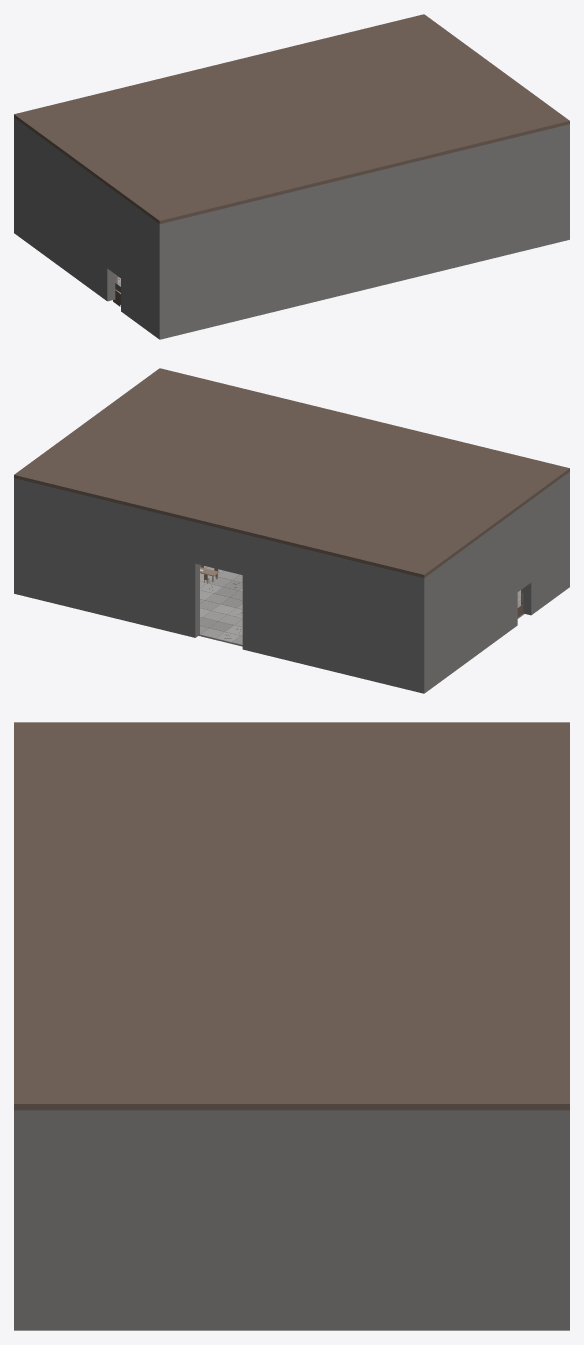
File: hub_hall.gltf
The picture shows the model from 3 angles, top to bottom: view 1: azimuth 30°, elevation 25°; view 2: azimuth 150°, elevation 25°; view 3: azimuth 270°, elevation 25°; orthographic projection. The views are drawn at different scales.
Visible parts, largest first — view 1: Body; view 2: Body; view 3: Body.
Boxes of the visible parts, box(x1,y1,x2,y2) form: Body: box(14, 14, 569, 339); Body: box(14, 368, 569, 693); Body: box(14, 722, 569, 1330).
Size of the model in its own units: 52 by 14.86 by 32.
